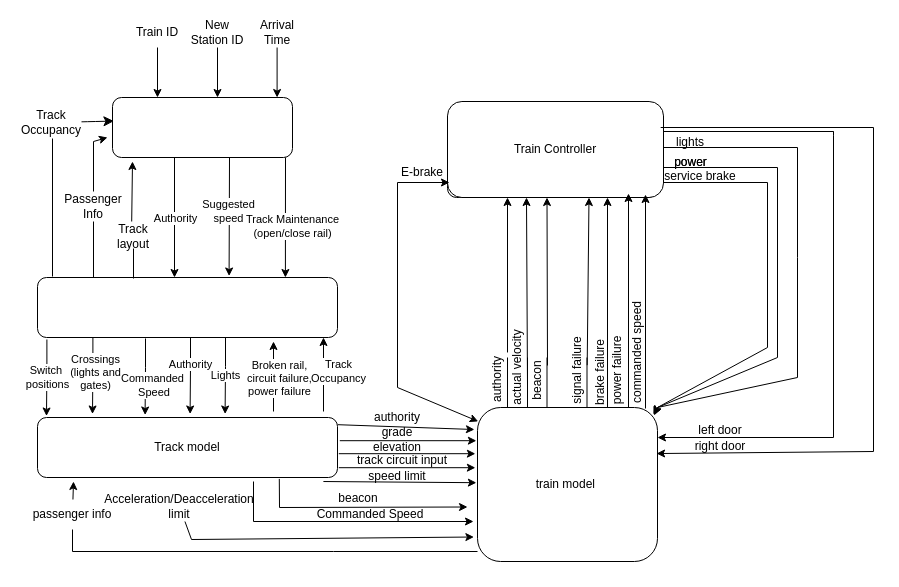
Image size: 899x587. Some labels were removed from this diagram. Here are the shapes that lost their labels. From the top down, the centre of each, then its label:
At point 202,127: "CTC".
At point 187,307: "Track Controller".
